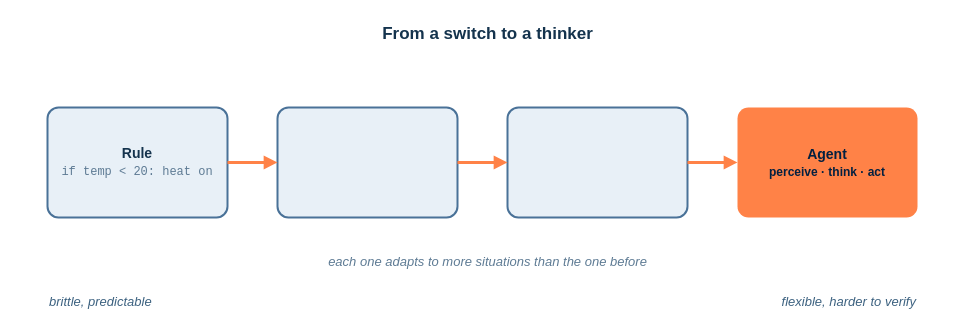
Some shapes in this 974 by 328 pixel diagram are drawn without their labels. The centre of each missing label's shape, as x and y in pixels:
LLM language reasoning: point (597, 162)
ML model learn the pattern: point (367, 162)
